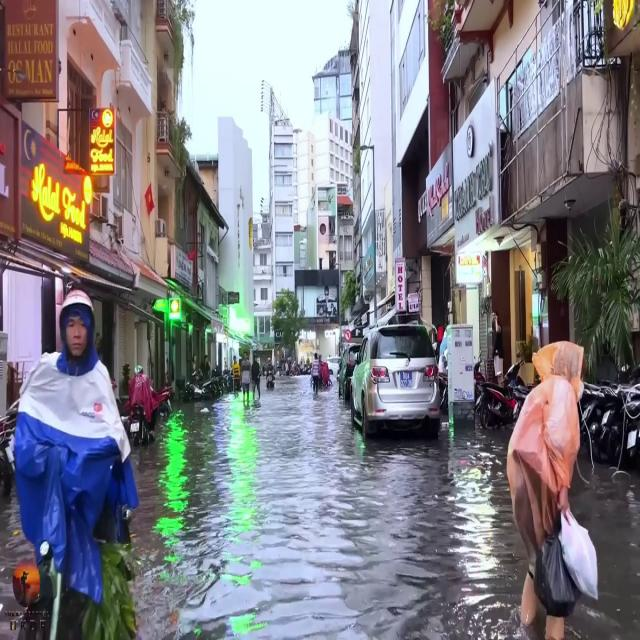bien_xanh: (399, 372, 412, 386)
